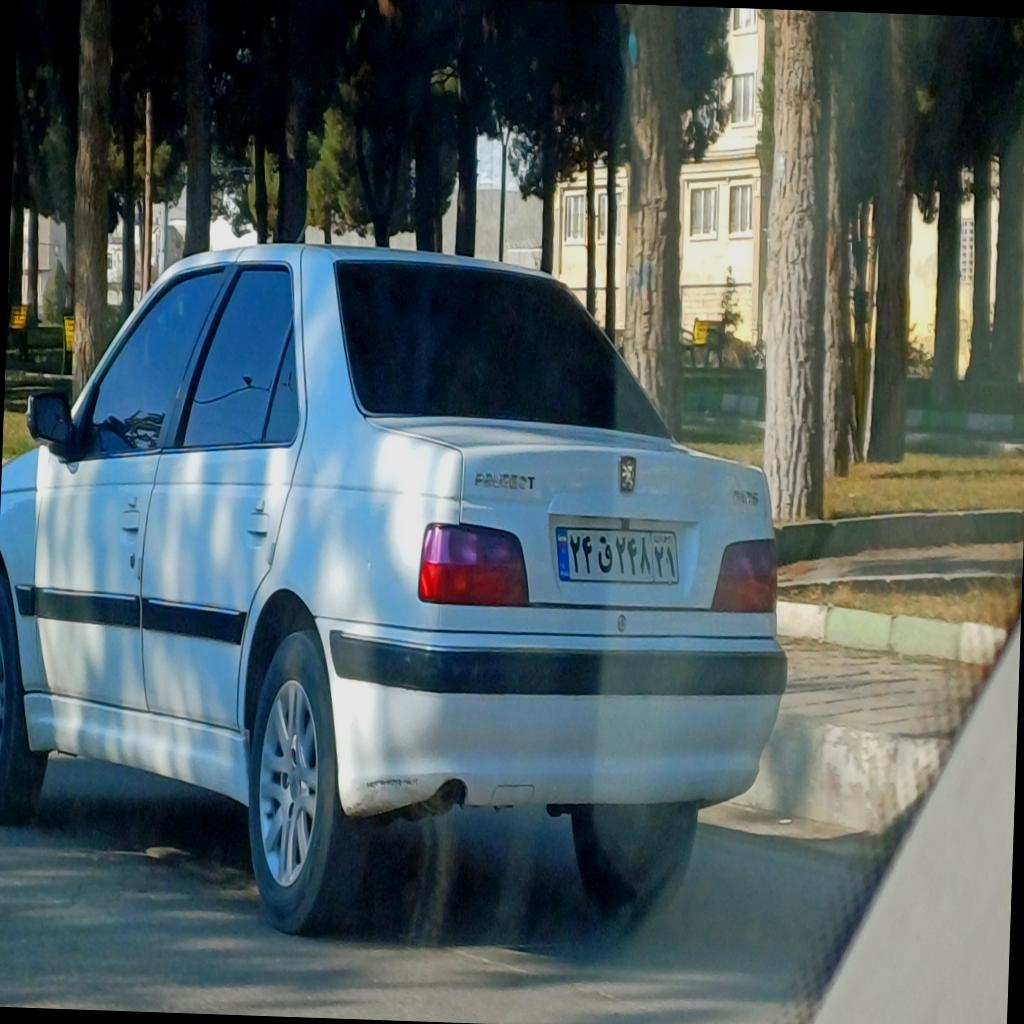Plates: (553, 526, 680, 582)
